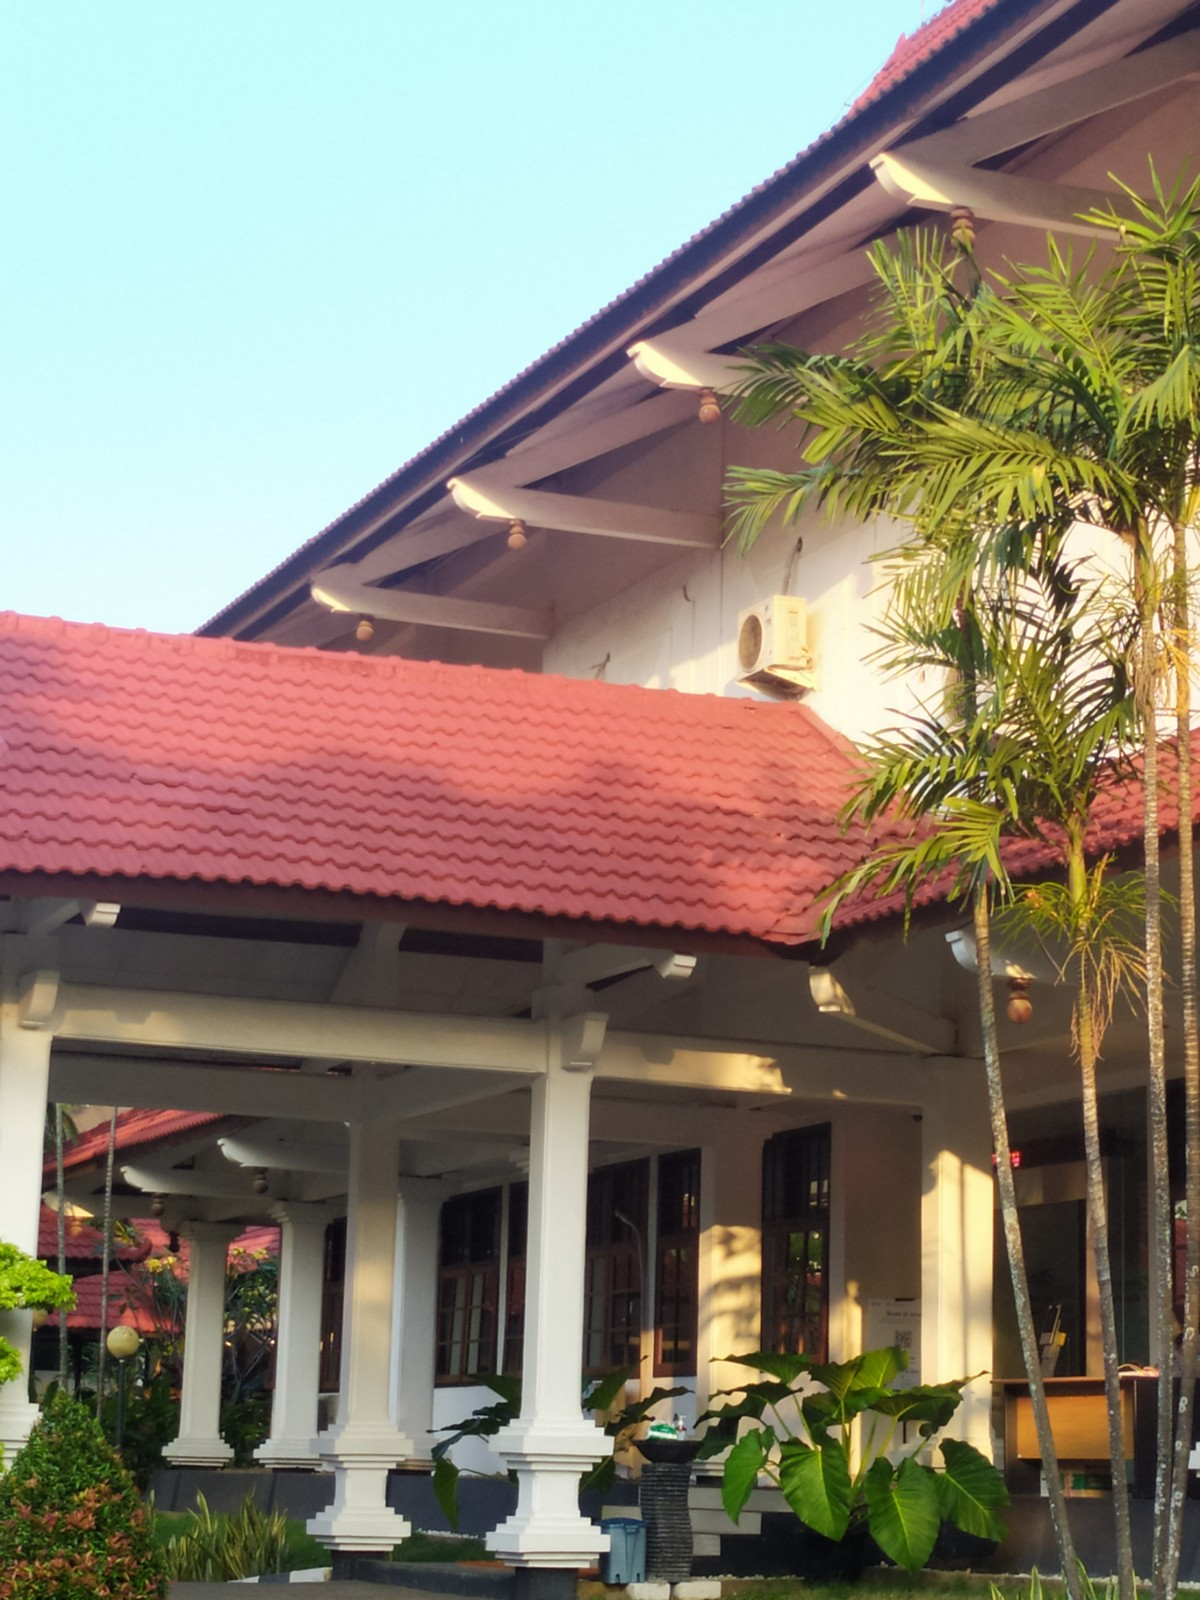concrete beam: (61, 976, 546, 1083), (592, 1013, 930, 1117), (968, 173, 1182, 257), (524, 488, 713, 556), (377, 582, 553, 641)
concrete column: (511, 1058, 606, 1444), (329, 1112, 405, 1443), (267, 1201, 326, 1453), (176, 1225, 232, 1455)
